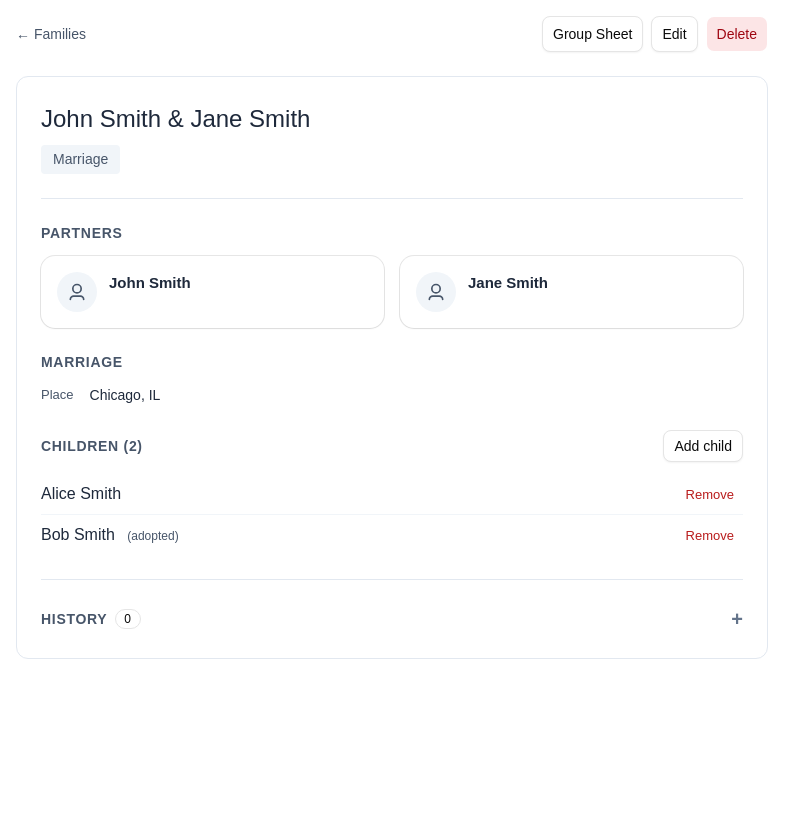
Family Detail Page › withdraws Restore and rollback on a branch
Click the button "History 0 +".
click(74, 618)  # box left=41, top=604, right=743, bottom=634
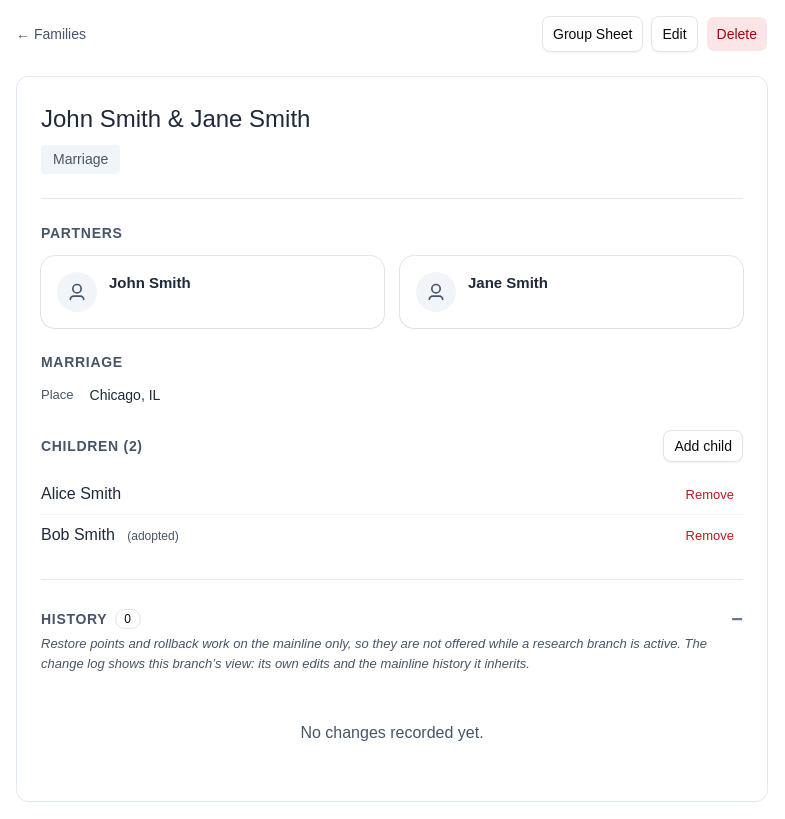
Result: the text "Restore points and rollback work on the mainline only" is shown at left=41, top=636, right=707, bottom=670
